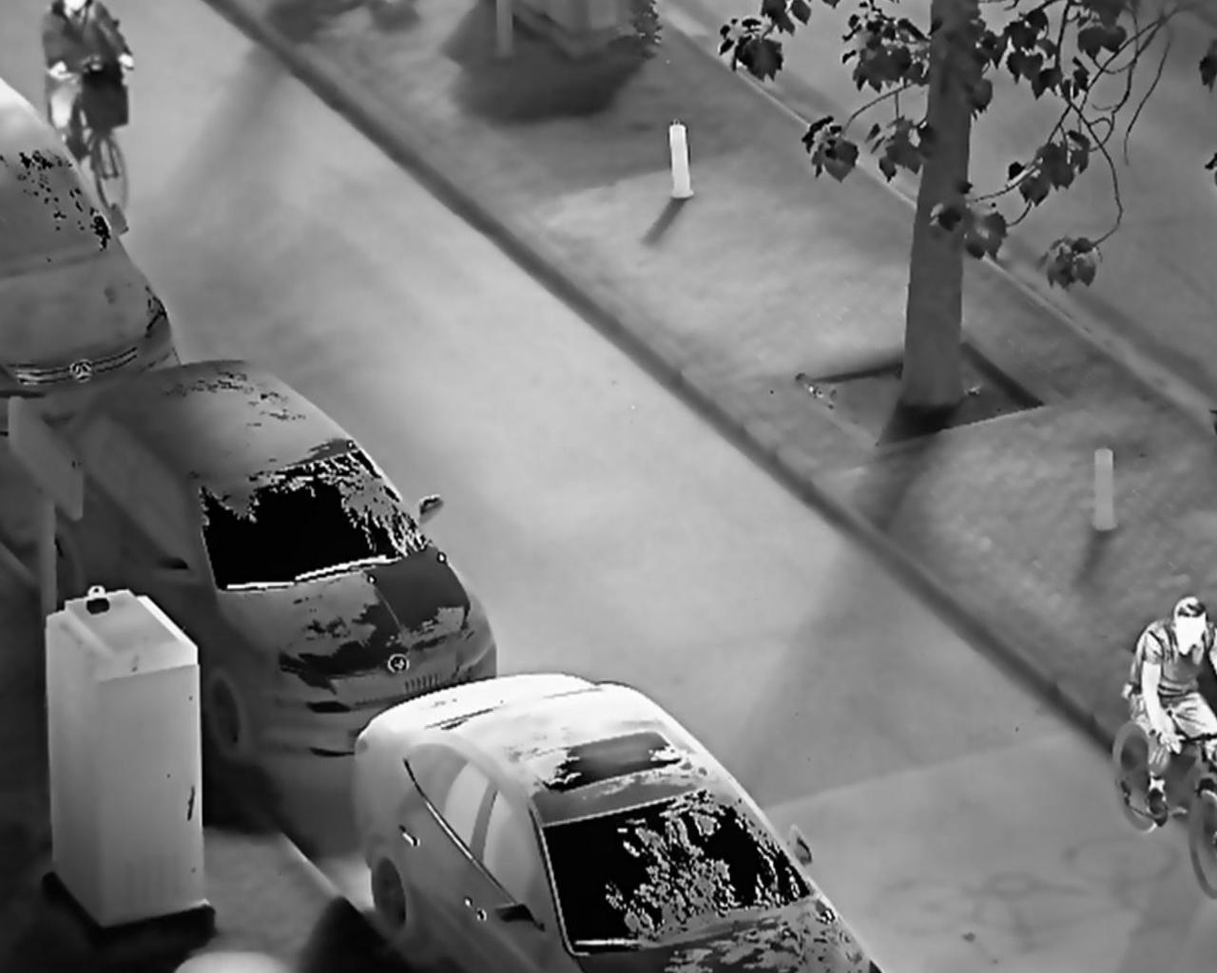person: (1119, 587, 1217, 833)
